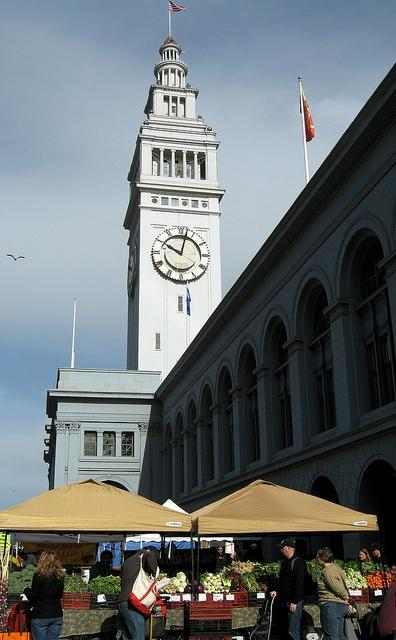carrot: (372, 573, 378, 576), (388, 574, 392, 578), (386, 573, 389, 577), (375, 579, 378, 582), (372, 581, 376, 583), (374, 582, 378, 584), (370, 577, 372, 579), (384, 582, 385, 584), (368, 582, 374, 582)
